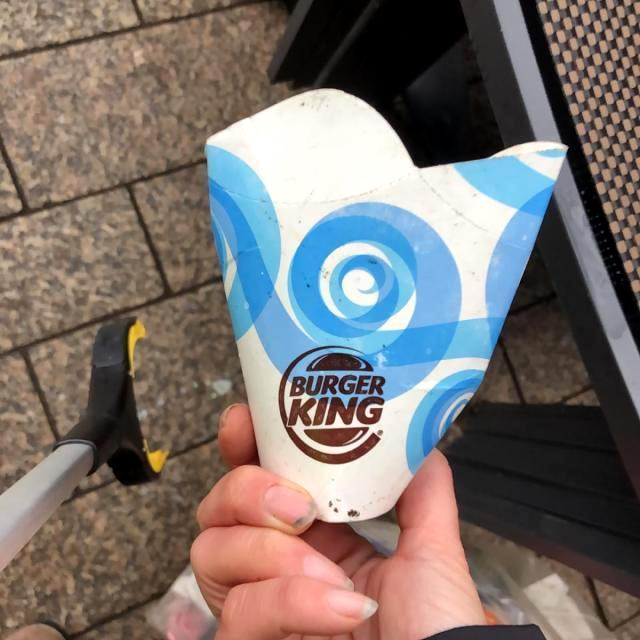Paper: (200, 86, 574, 528)
